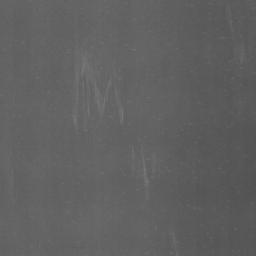Silk spot: (80, 76, 94, 100)
